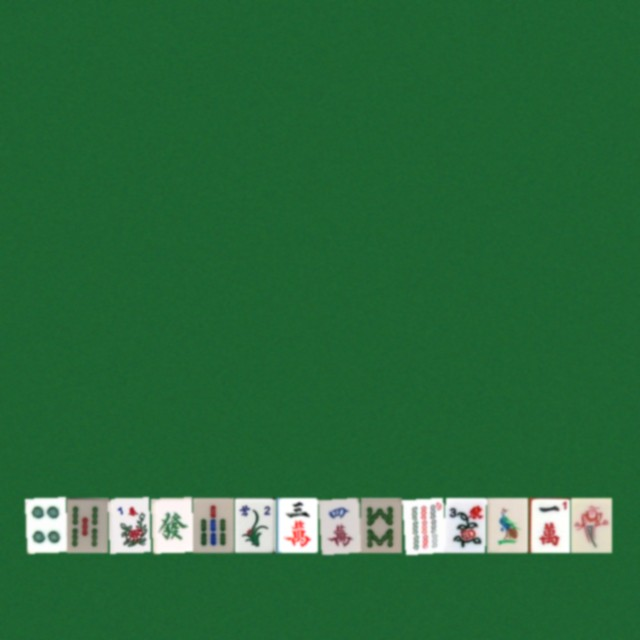tile: (24, 497, 65, 552), (66, 497, 107, 552), (108, 497, 149, 552), (150, 497, 191, 552), (192, 497, 233, 552), (234, 497, 275, 552), (276, 497, 317, 552), (318, 497, 359, 552), (360, 497, 401, 552), (402, 497, 443, 552), (444, 497, 485, 552), (486, 497, 527, 552), (528, 497, 569, 552), (570, 497, 611, 552)
